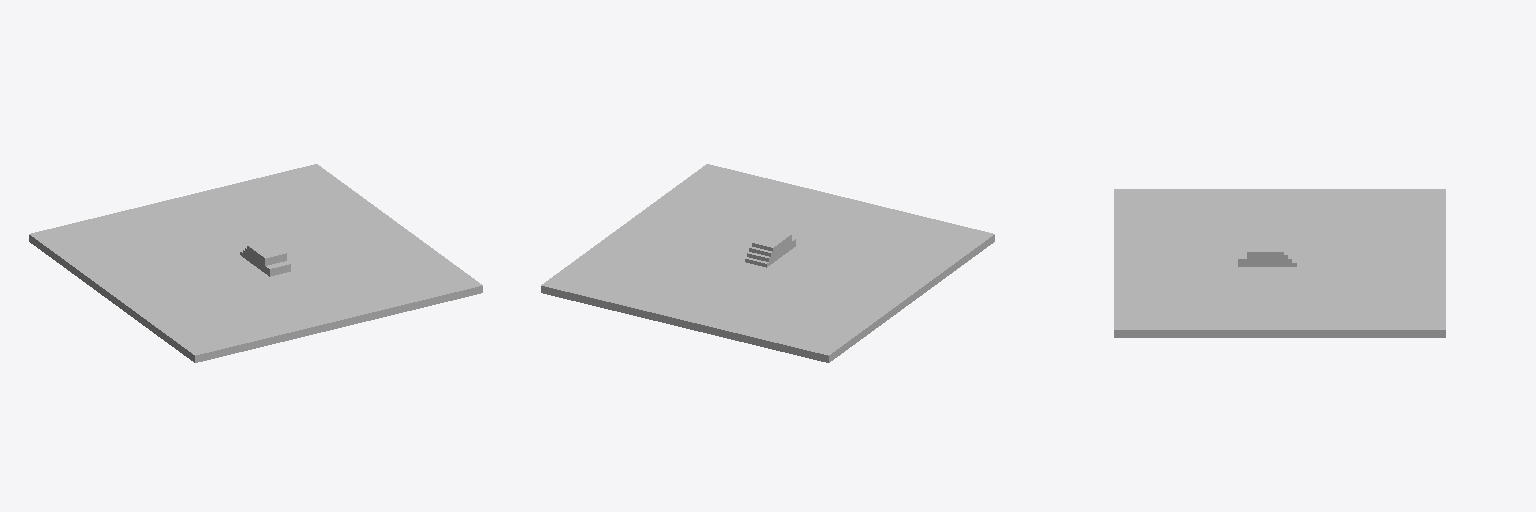
Rendered from testLevel.obj.
The picture shows the model from 3 angles: view 1: azimuth 30°, elevation 25°; view 2: azimuth 150°, elevation 25°; view 3: azimuth 270°, elevation 25°; orthographic projection.
Parts seen in each view (by area): view 1: object 1; view 2: object 1; view 3: object 1.
Boxes of the visible parts, box(x1,y1,x2,y2) form: object 1: box(29, 164, 482, 362); object 1: box(541, 164, 994, 362); object 1: box(1114, 189, 1445, 337).
Size of the model in its own units: 8 by 0.6 by 8.